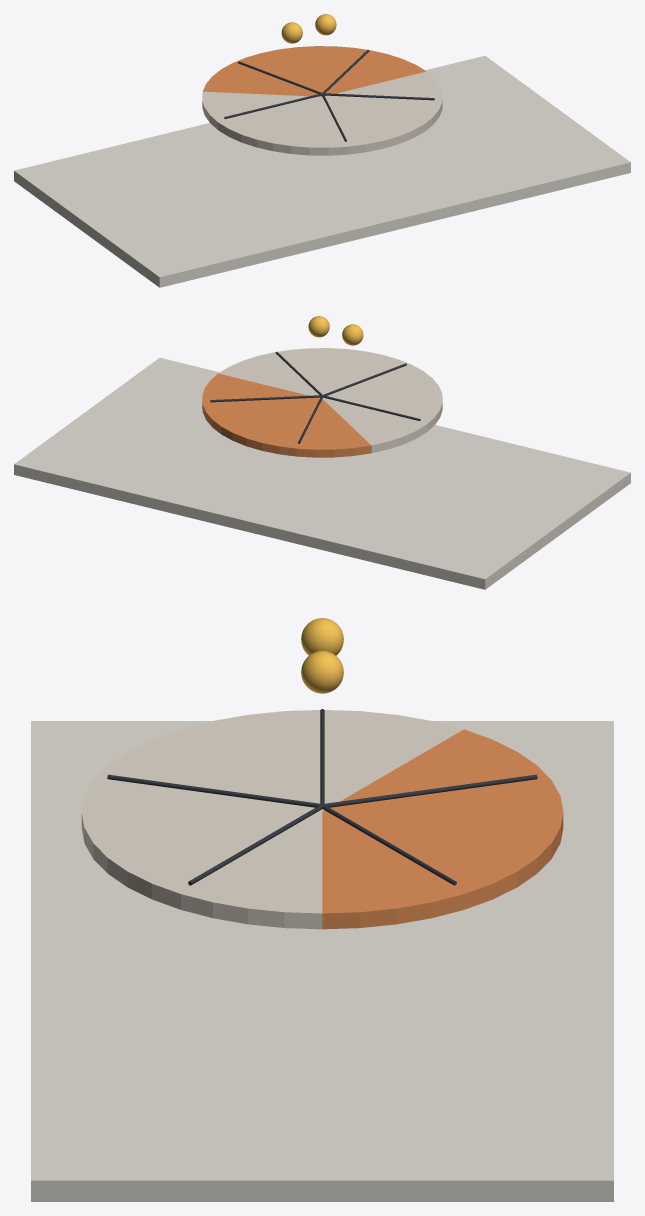
File: math-fractions-numerator.glb
3 renders of one model, top to bottom at view 1: azimuth 30°, elevation 25°; view 2: azimuth 150°, elevation 25°; view 3: azimuth 270°, elevation 25°, orthographic. The views are drawn at different scales.
Parts seen in each view (by area): view 1: manipulative-base, numerator-two-slice-4, numerator-two-slice-3, numerator-two-slice-5, numerator-two-slice-1, numerator-two-slice-2; view 2: manipulative-base, numerator-two-slice-2, numerator-two-slice-3, numerator-two-slice-1, numerator-two-slice-5, numerator-two-slice-4; view 3: manipulative-base, numerator-two-slice-1, numerator-two-slice-5, numerator-two-slice-3, numerator-two-slice-2, numerator-two-slice-4, counted-filled-part-two, counted-filled-part-one, numerator-two-divider-2, numerator-two-divider-4, numerator-two-divider-1, numerator-two-divider-5.
Part boxes in pixels (x1,y1,x2,y2): manipulative-base: (14, 56, 630, 287); numerator-two-slice-4: (273, 97, 411, 155); numerator-two-slice-3: (202, 91, 321, 150); numerator-two-slice-5: (325, 71, 442, 138); numerator-two-slice-1: (297, 46, 426, 96); numerator-two-slice-2: (203, 47, 322, 96); manipulative-base: (14, 358, 630, 589); numerator-two-slice-2: (233, 399, 371, 457); numerator-two-slice-3: (323, 393, 442, 452); numerator-two-slice-1: (202, 373, 319, 440); numerator-two-slice-5: (218, 348, 347, 398); numerator-two-slice-4: (322, 349, 441, 398); manipulative-base: (31, 721, 613, 1201); numerator-two-slice-1: (322, 811, 551, 929); numerator-two-slice-5: (93, 811, 322, 929); numerator-two-slice-3: (181, 710, 463, 811); numerator-two-slice-2: (323, 729, 563, 858); numerator-two-slice-4: (81, 729, 321, 858); counted-filled-part-two: (301, 651, 343, 693); counted-filled-part-one: (301, 618, 343, 655); numerator-two-divider-2: (107, 774, 321, 807); numerator-two-divider-4: (323, 774, 537, 807); numerator-two-divider-1: (188, 804, 322, 885); numerator-two-divider-5: (322, 804, 456, 885).
Size of what is drawn, in the model's own units: 2.8 by 0.915 by 1.5.
